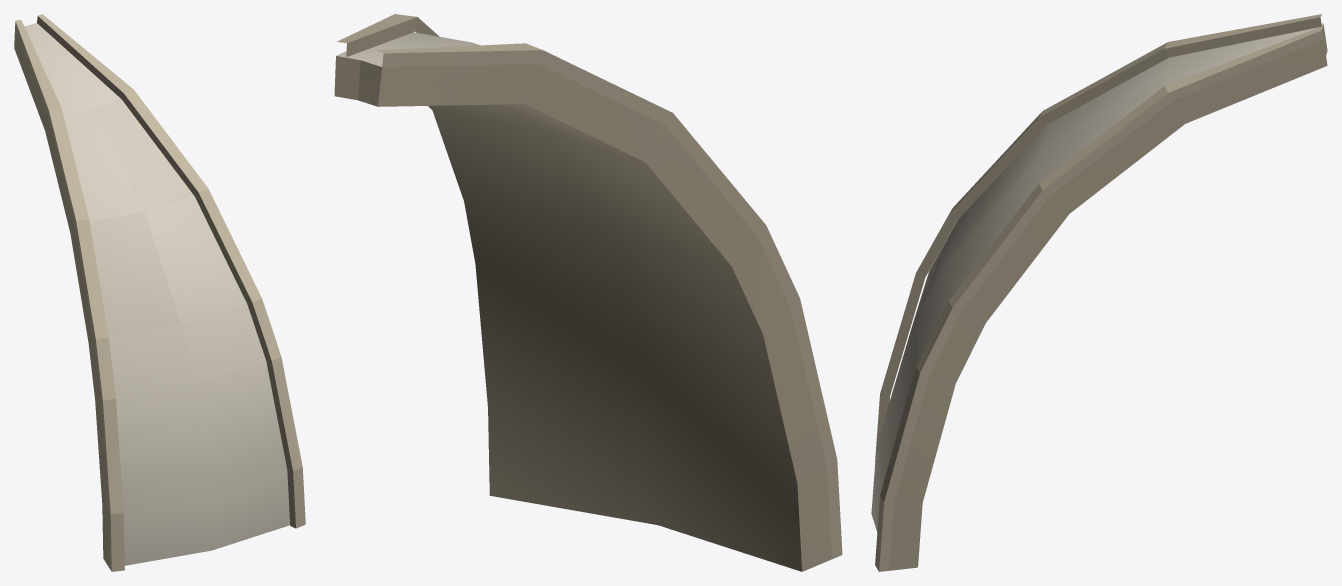
The model's file is dome.panel_12.plaster.glb.
3 views of the same model, side by side, from view 1: azimuth 30°, elevation 25°; view 2: azimuth 150°, elevation 25°; view 3: azimuth 270°, elevation 25° (orthographic). The views are drawn at different scales.
Visible parts, largest first — view 1: dome_panel_12_plaster; view 2: dome_panel_12_plaster; view 3: dome_panel_12_plaster.
Part boxes in pixels (x1,y1,x2,y2): dome_panel_12_plaster: [14, 14, 305, 571]; dome_panel_12_plaster: [334, 14, 842, 571]; dome_panel_12_plaster: [871, 14, 1327, 571].
Size of what is drawn, in the model's own units: 1.85 by 3.63 by 3.06.
